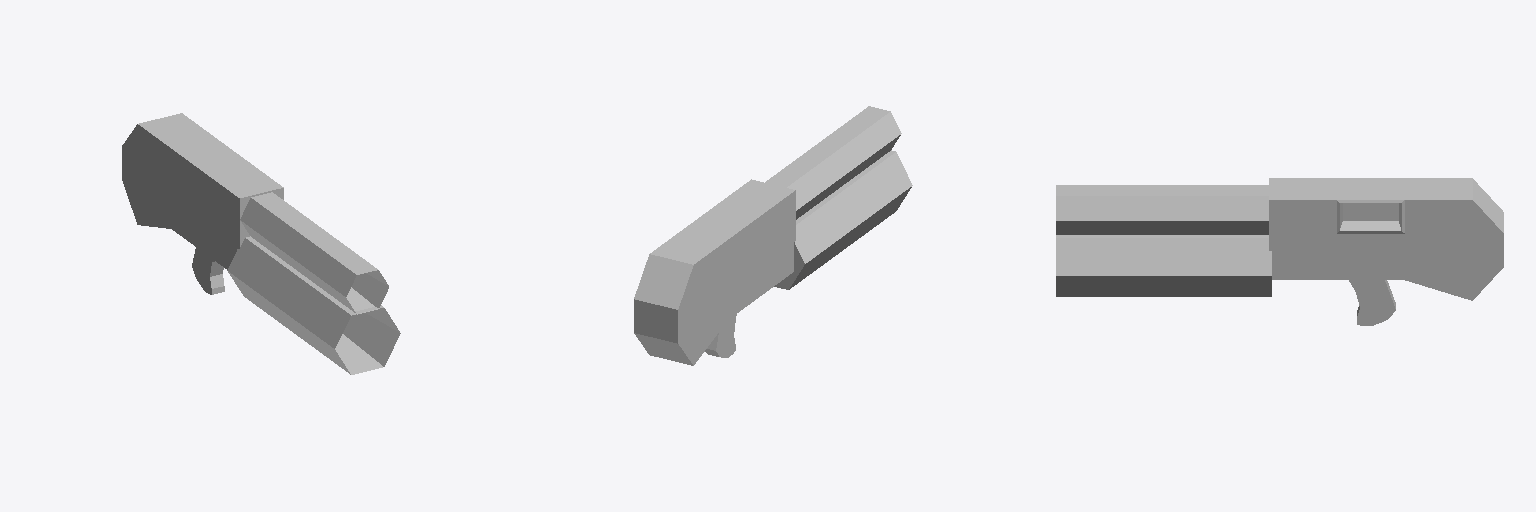
Rendered from mdl_smg.obj.
3 renders of one model, left to right at view 1: azimuth 30°, elevation 25°; view 2: azimuth 150°, elevation 25°; view 3: azimuth 270°, elevation 25°, orthographic.
Parts seen in each view (by area): view 1: Box001, Cylinder002, Cylinder001, Line001; view 2: Box001, Cylinder002, Cylinder001, Line001; view 3: Box001, Cylinder002, Cylinder001, Line001.
Boxes of the visible parts, box(x1,y1,x2,y2) form: Box001: box(122, 113, 283, 269); Cylinder002: box(227, 236, 400, 374); Cylinder001: box(240, 192, 388, 314); Line001: box(192, 247, 224, 294); Box001: box(634, 179, 795, 365); Cylinder002: box(774, 150, 912, 289); Cylinder001: box(765, 106, 901, 219); Line001: box(705, 314, 736, 357); Box001: box(1269, 178, 1503, 300); Cylinder002: box(1056, 235, 1271, 296); Cylinder001: box(1056, 185, 1268, 234); Line001: box(1349, 280, 1395, 325).
Bounding box in the file's own units: 0.7644 × 1.49 × 4.5.